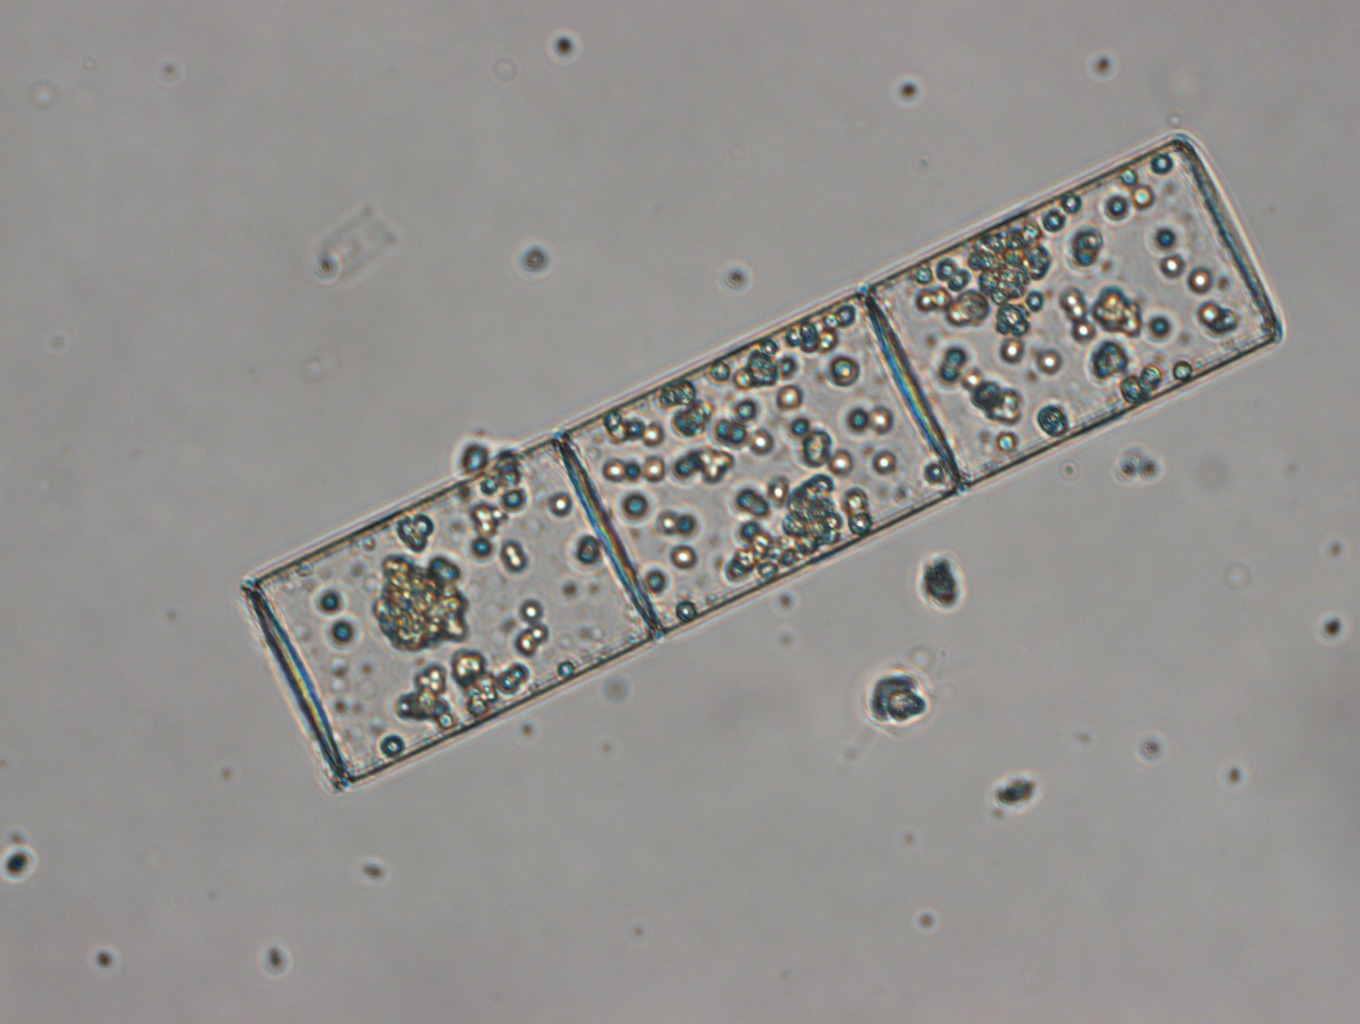guinardia flaccida: (240, 134, 1288, 792)
